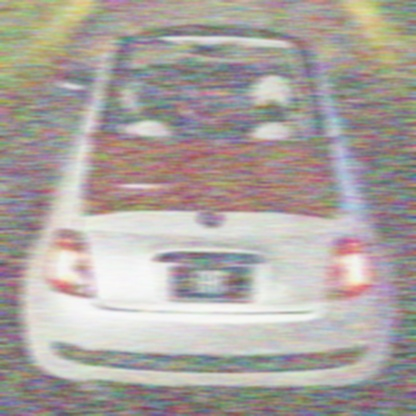Vehicle: (18, 24, 400, 394)
